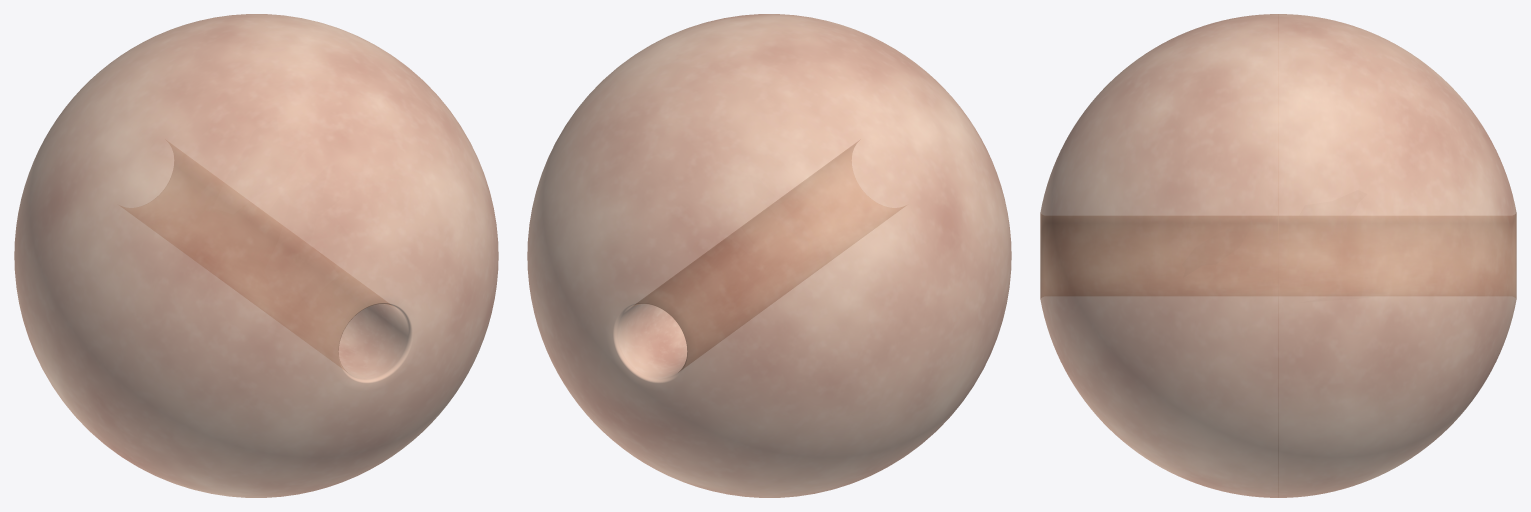
File: morganite-6mm.glb
3 views of the same model, side by side, from view 1: azimuth 30°, elevation 25°; view 2: azimuth 150°, elevation 25°; view 3: azimuth 270°, elevation 25° (orthographic).
Visible parts, largest first — view 1: morganite.001; view 2: morganite.001; view 3: morganite.001.
Boxes of the visible parts, bbox=[...] form: morganite.001: bbox=[14, 14, 498, 497]; morganite.001: bbox=[527, 14, 1011, 497]; morganite.001: bbox=[1040, 14, 1516, 497].
Size of the model in its own units: 0.006 by 0.006 by 0.0059.
2 materials, 1 textured.
